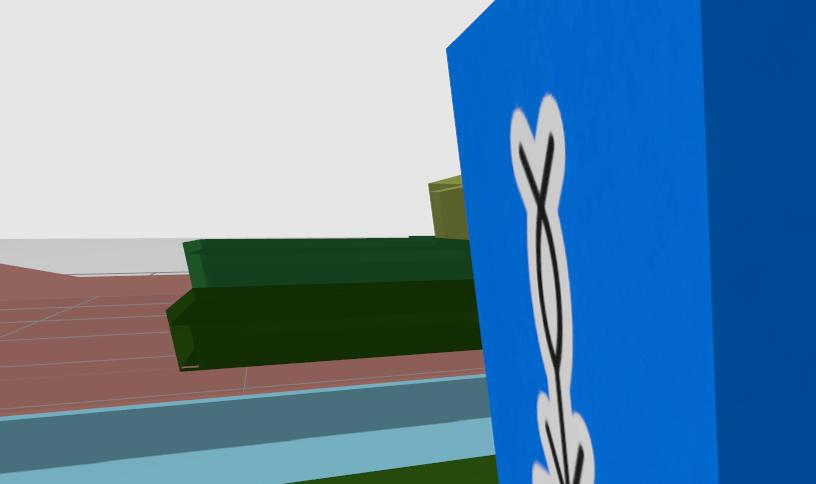KFS_REAL: (448, 0, 816, 484), (510, 94, 601, 484)
